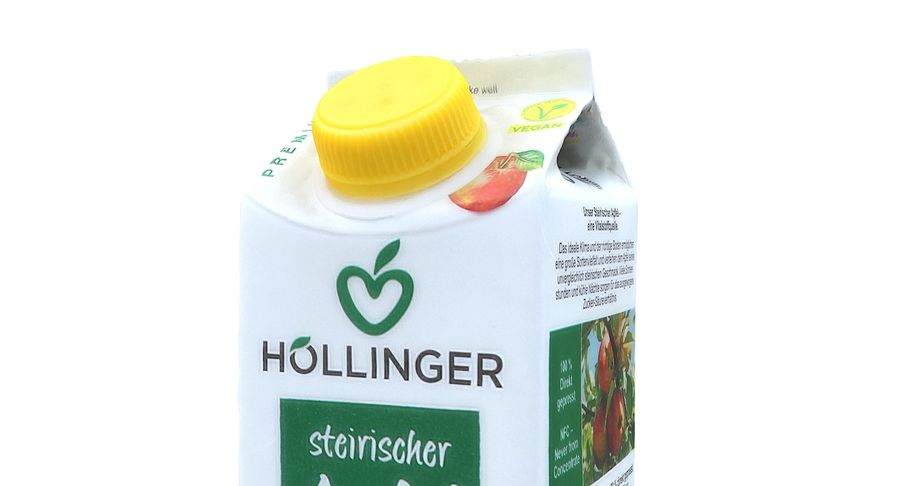carton: (206, 22, 660, 486)
